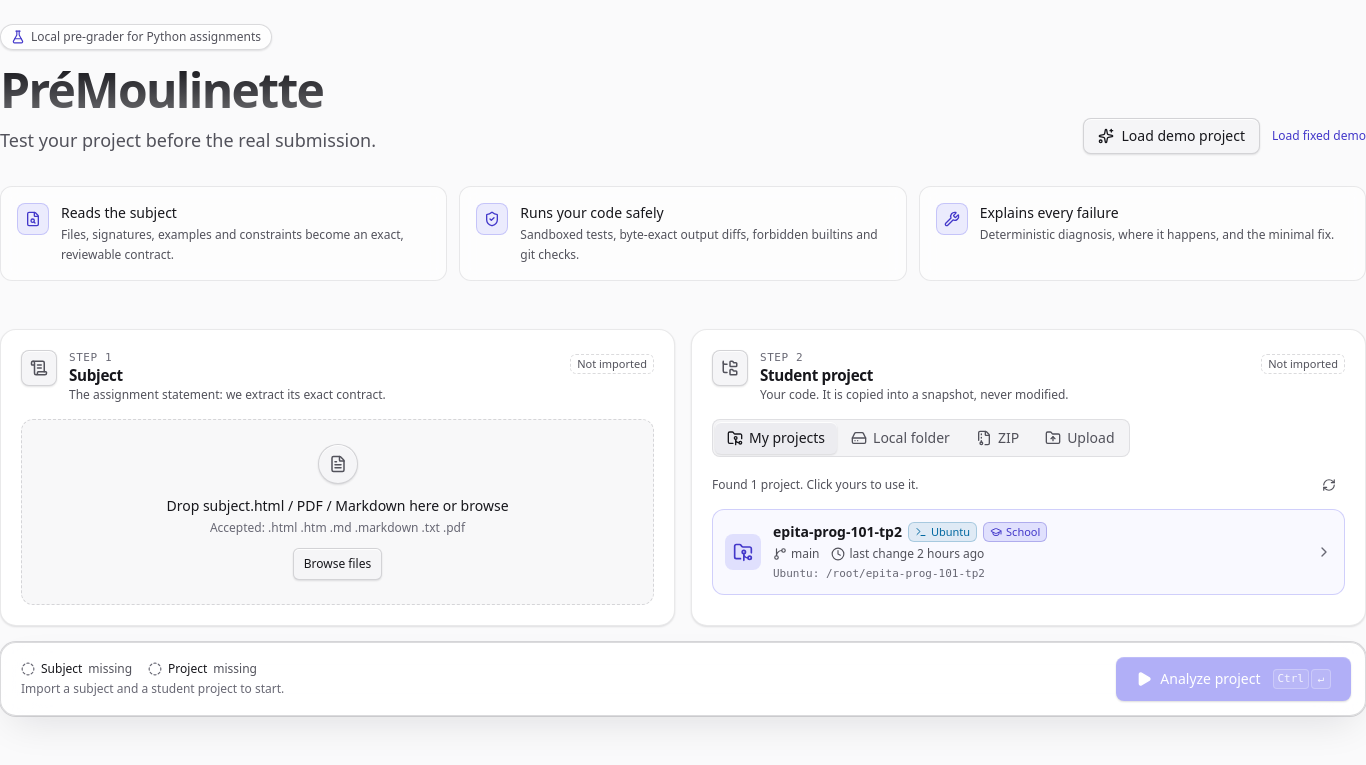
Test: My projects tab › imports a project with one click, like the Local folder flow
This screenshot has width=1366, height=765.
Click the button "epita-prog-101-tp2": point(743, 552) x1=712 y1=509 x2=1345 y2=595
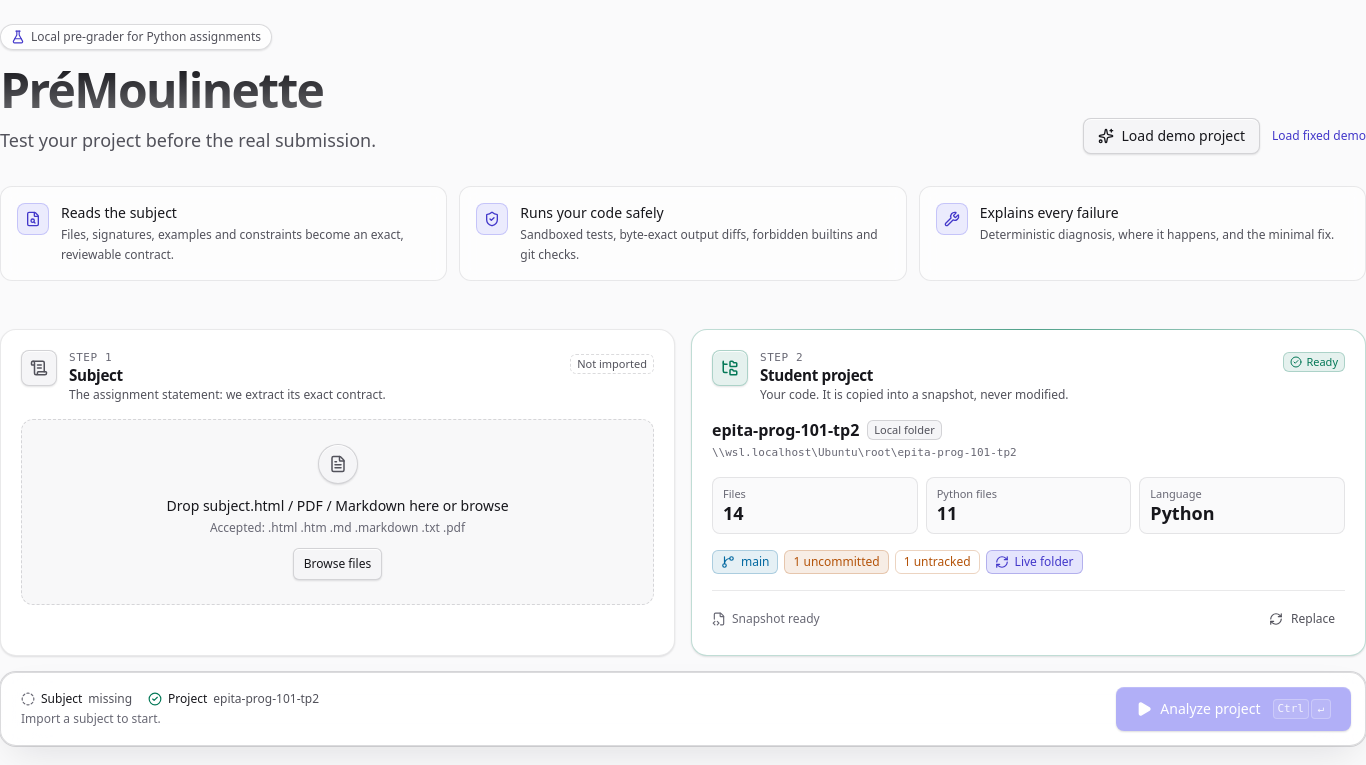
expect the text "Snapshot ready" is shown: met, box x1=712 y1=610 x2=820 y2=626
